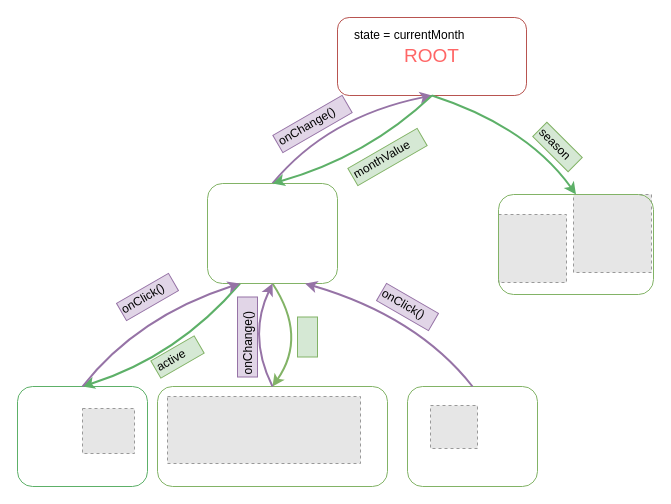
Some shapes in this 671 by 504 pixel diagram are drawn without their labels. Grey dashed boxes stand in for pictures. The shapes that lost their labels are listed below. From the top down, each one's box as (x1, y1, x2, y2) in pixels, then its label:
(206, 182, 338, 284): MONTH SELECTOR
(296, 316, 318, 357): value
